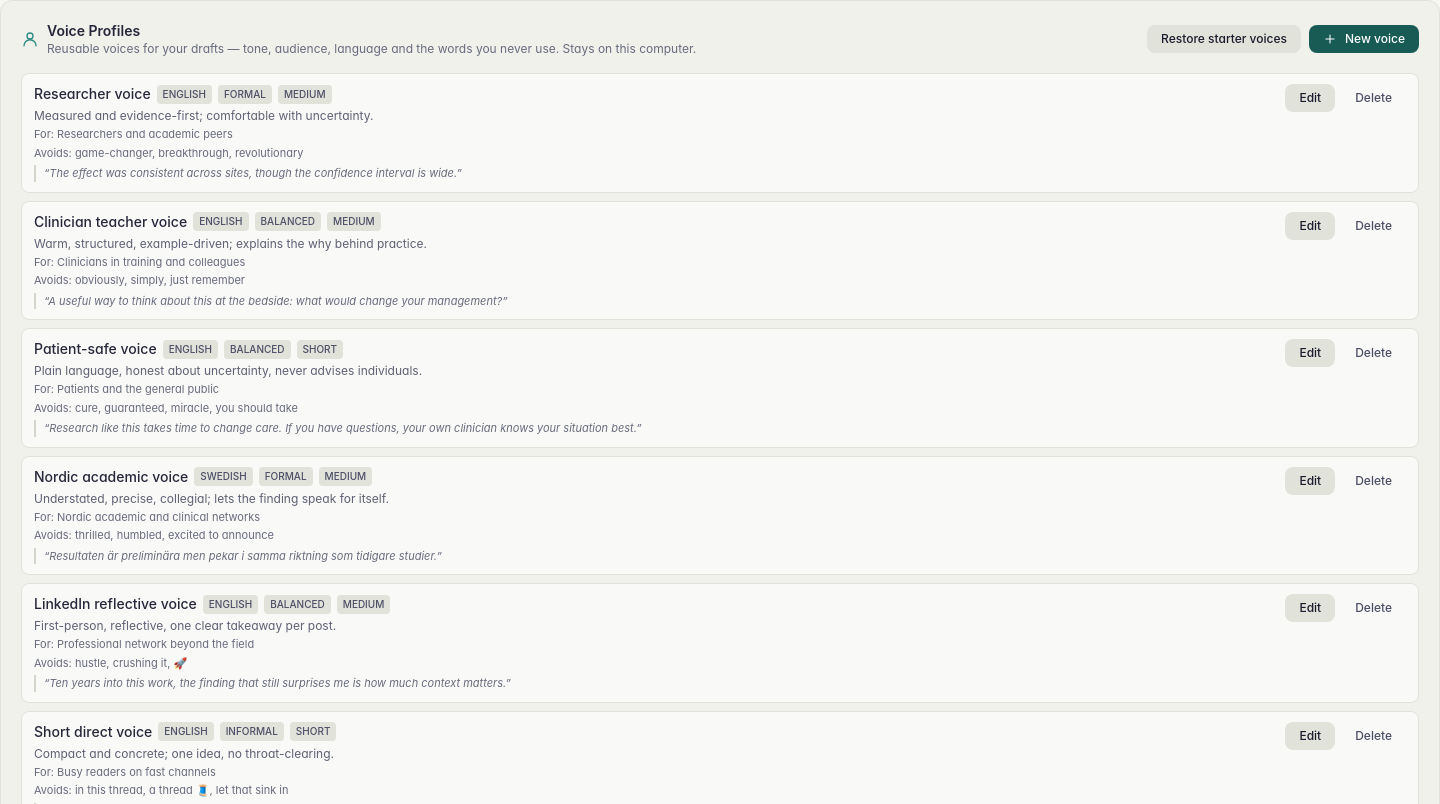
it: VoiceProfilesScreen › creates a new voice profile
The width and height of the screenshot is (1440, 804).
Click the button "New voice" at (1364, 39), box top-left (1309, 25), bottom-right (1419, 53)
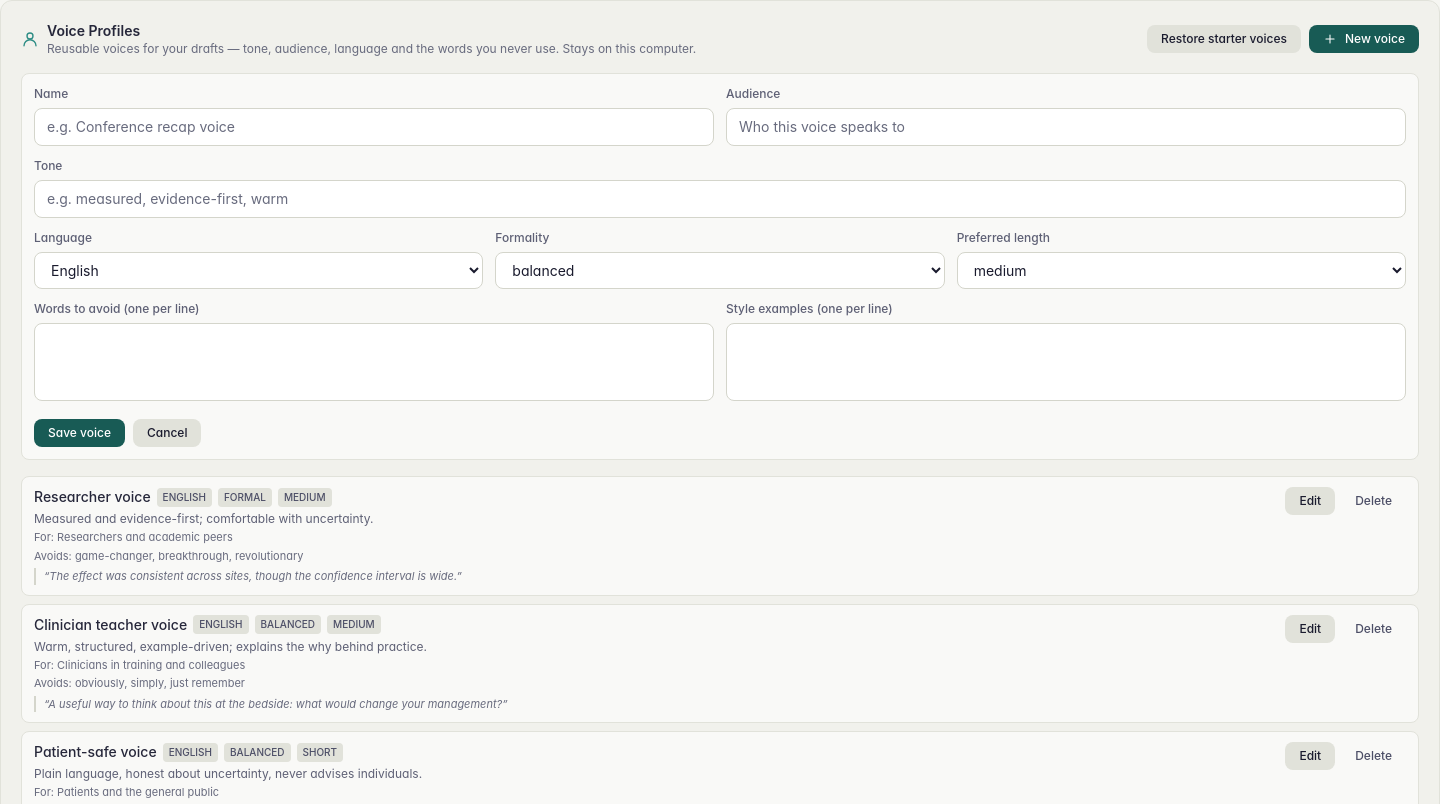
Type "Grant-report voice" into the field labelled "Name" at (374, 127), box top-left (34, 108), bottom-right (714, 146)
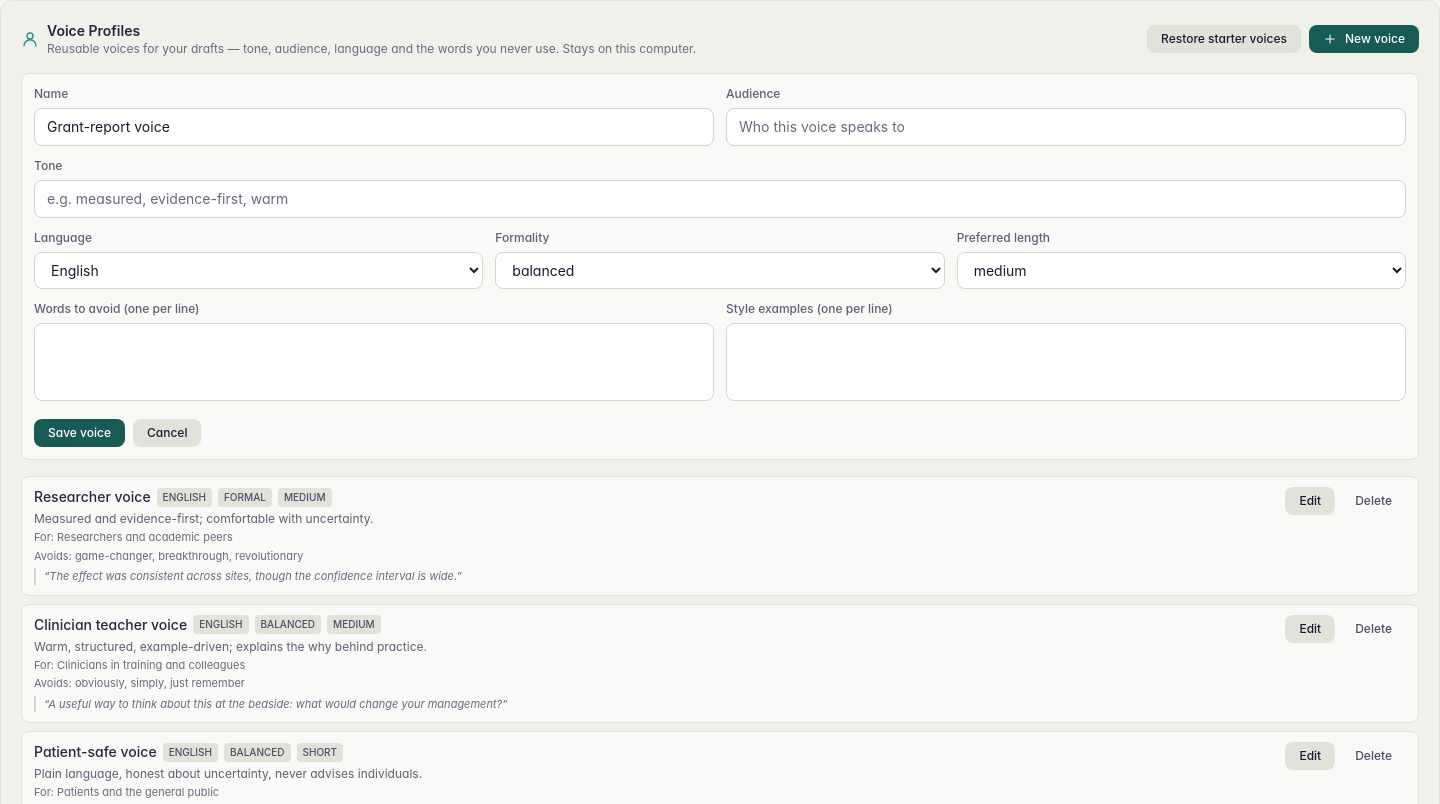
Click the button "Save voice" at (80, 433), box top-left (34, 419), bottom-right (125, 447)
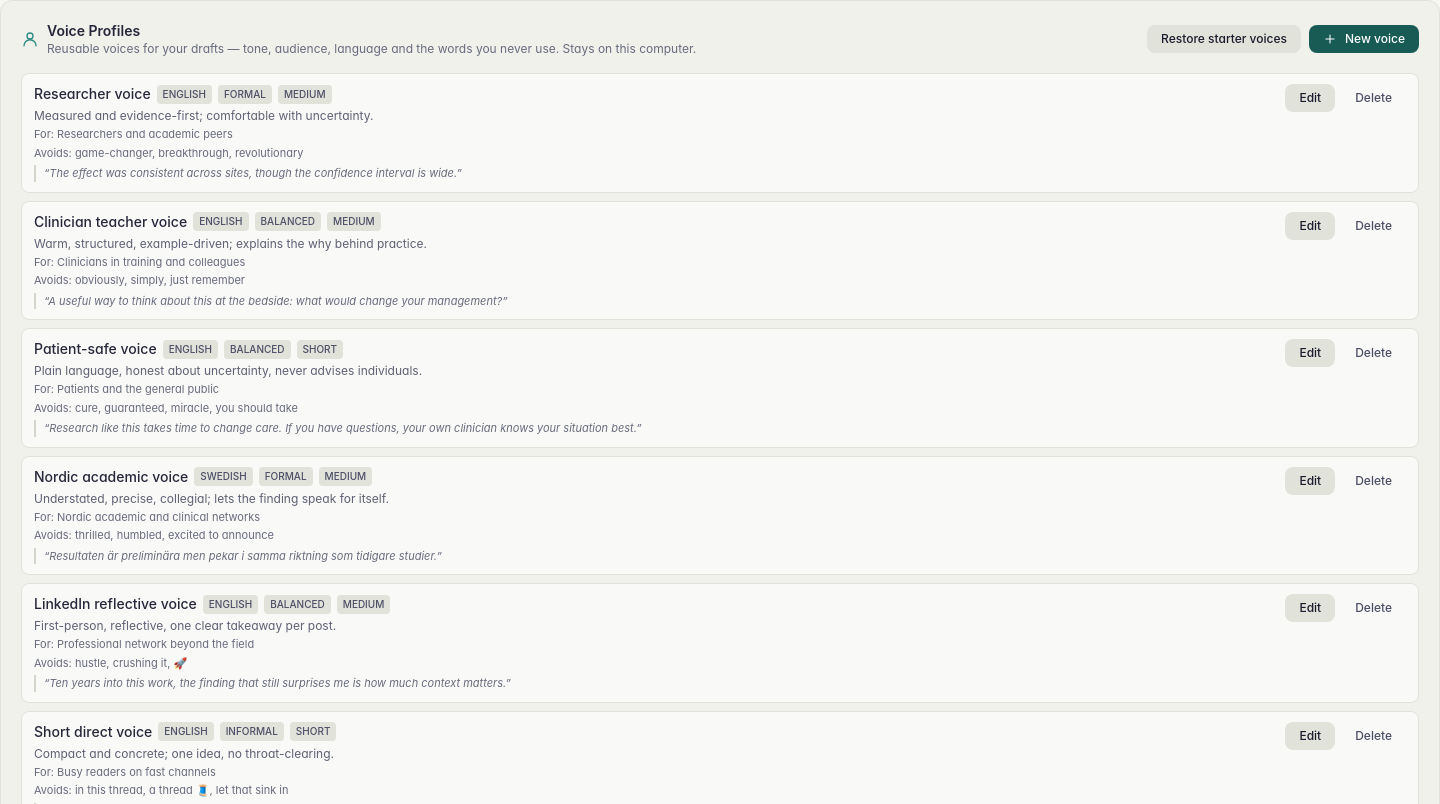
Result: the number of list items with test id "voice-profile" is 7
